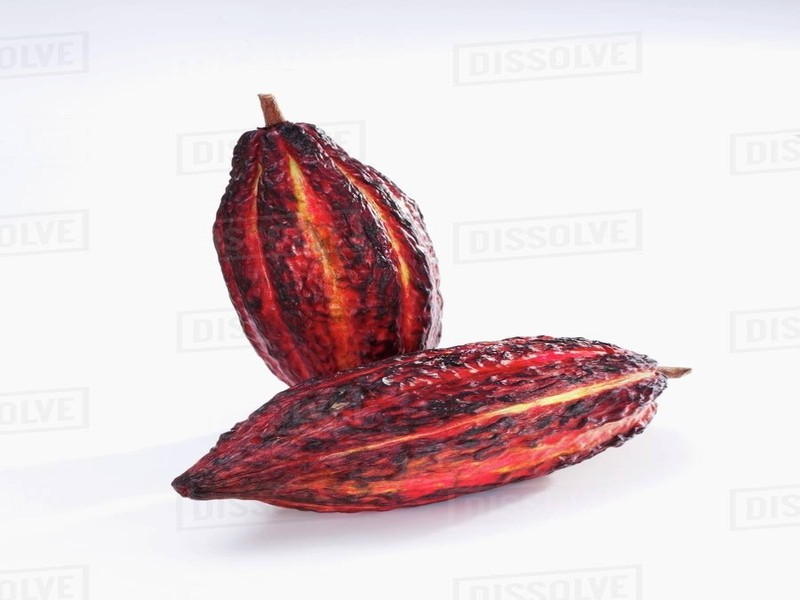Cacaopod: (171, 333, 695, 512), (212, 93, 444, 389)
